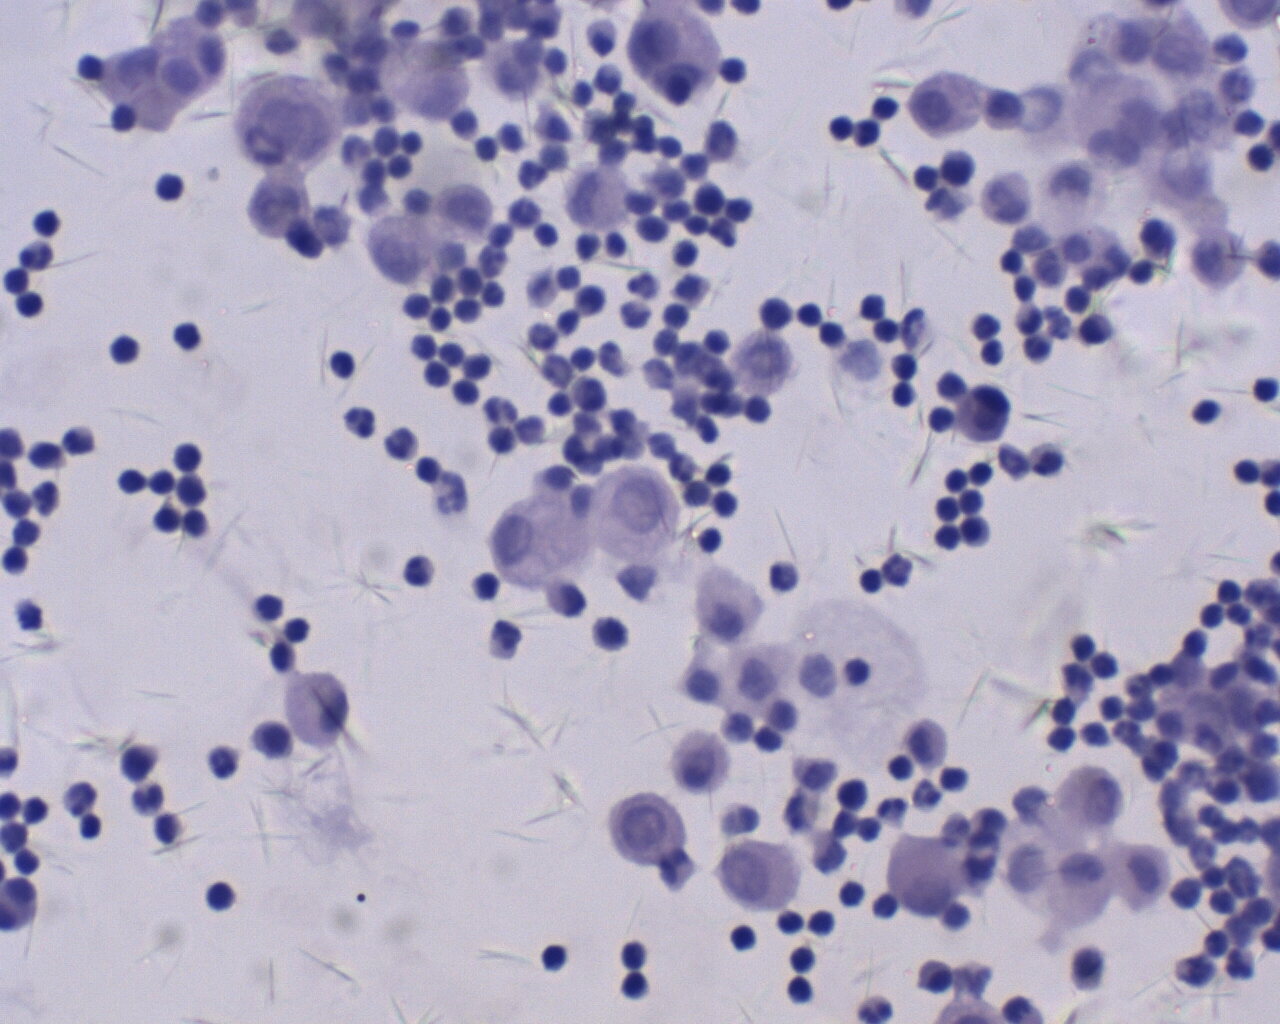ab: (239, 174, 317, 238)
histo: (487, 488, 596, 596), (280, 666, 352, 751)
lymph: (200, 874, 238, 920), (102, 98, 142, 137), (717, 48, 748, 91), (74, 49, 110, 86), (10, 287, 46, 323), (104, 332, 142, 366), (1231, 456, 1263, 493), (150, 503, 184, 538), (825, 109, 857, 146), (621, 965, 651, 1003), (726, 921, 761, 953), (327, 348, 360, 379), (152, 169, 185, 201), (790, 299, 823, 330), (537, 945, 571, 974), (171, 321, 203, 351), (696, 525, 726, 556), (251, 594, 282, 623), (117, 465, 145, 496), (785, 976, 815, 1004), (856, 565, 884, 595), (1195, 396, 1221, 426), (173, 442, 200, 469)
meso: (590, 463, 682, 558), (887, 831, 973, 920), (713, 837, 802, 915), (607, 794, 689, 866), (1043, 850, 1113, 931), (902, 70, 981, 140), (668, 729, 734, 796)
neutro: (56, 775, 107, 817), (380, 422, 424, 464), (399, 549, 440, 594), (760, 555, 806, 595), (127, 775, 168, 819), (511, 153, 551, 195), (32, 474, 65, 523), (853, 988, 897, 1024), (205, 743, 241, 785), (16, 238, 60, 273), (907, 775, 941, 817), (57, 422, 95, 459), (1225, 944, 1258, 984), (344, 405, 377, 440)
